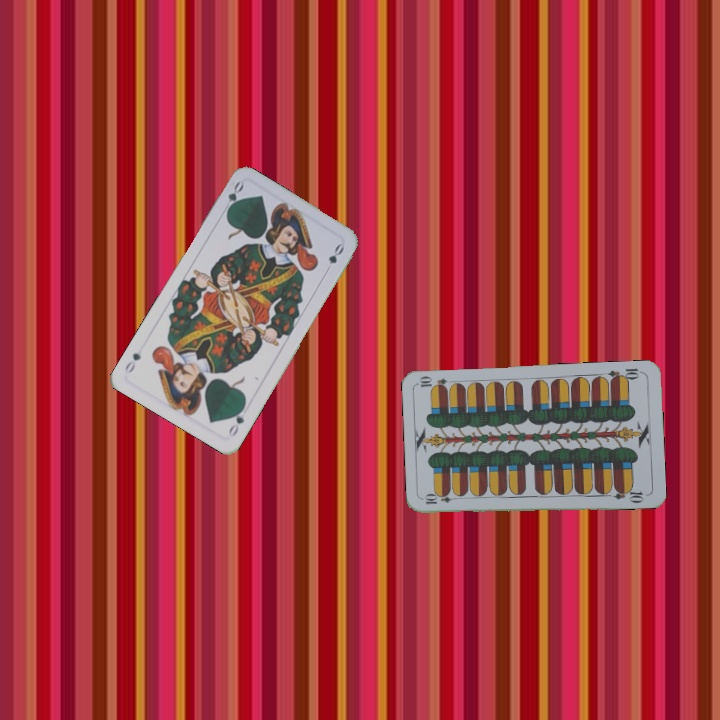E10: (604, 364, 645, 384), (421, 492, 461, 507)
GO: (218, 177, 246, 217), (224, 401, 248, 439)
